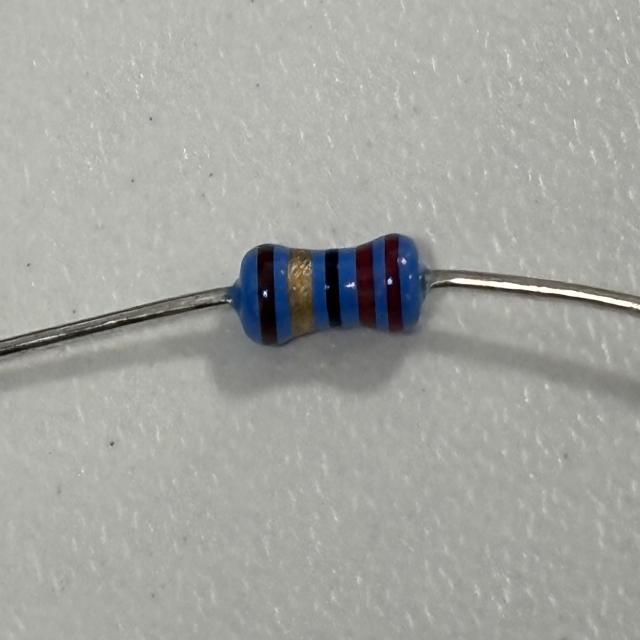resistor: (242, 231, 418, 349)
